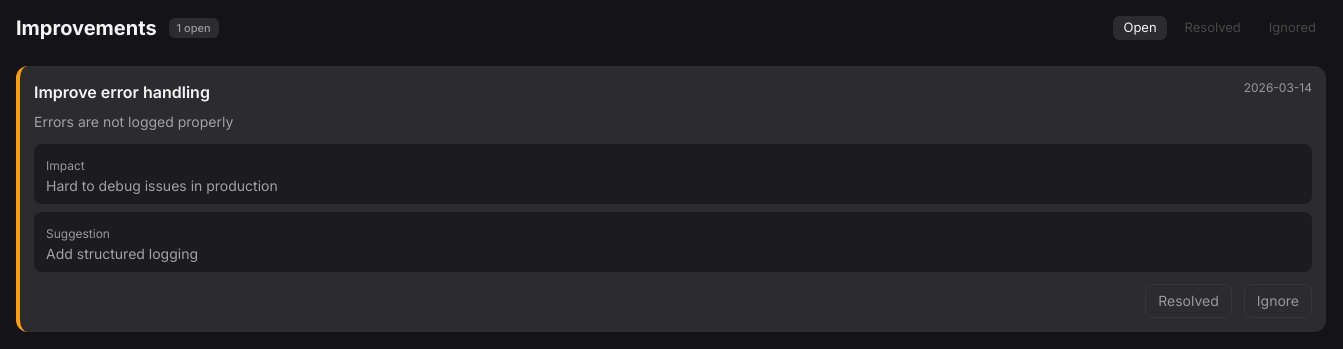
Test: Ameliorations page › shows empty state for resolved filter with no resolved items
This screenshot has width=1343, height=349.
// "Resolved" appears in filter tab and card action . Click the filter tab
Click the button "Resolved" in the row of "1 open": [1213, 28] box [1175,16,1251,40]
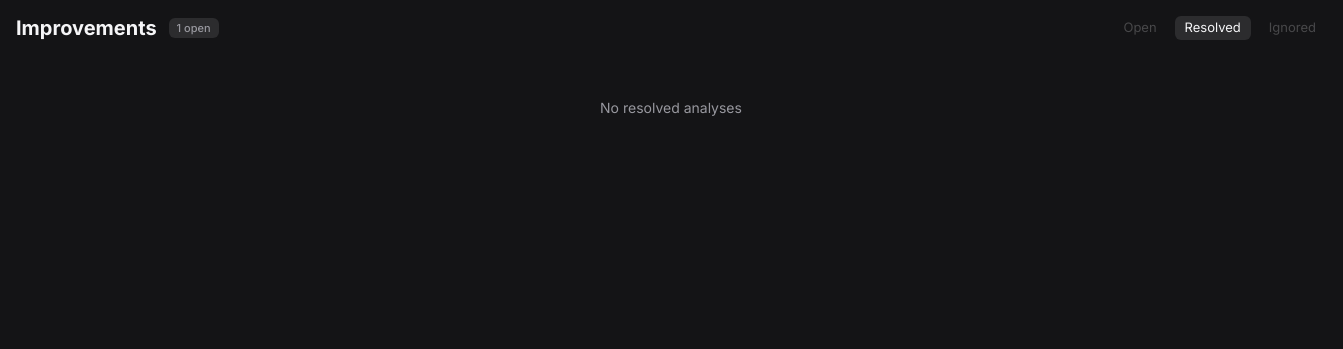
Result: the text "No resolved analyses" is shown at [600,99,742,116]
